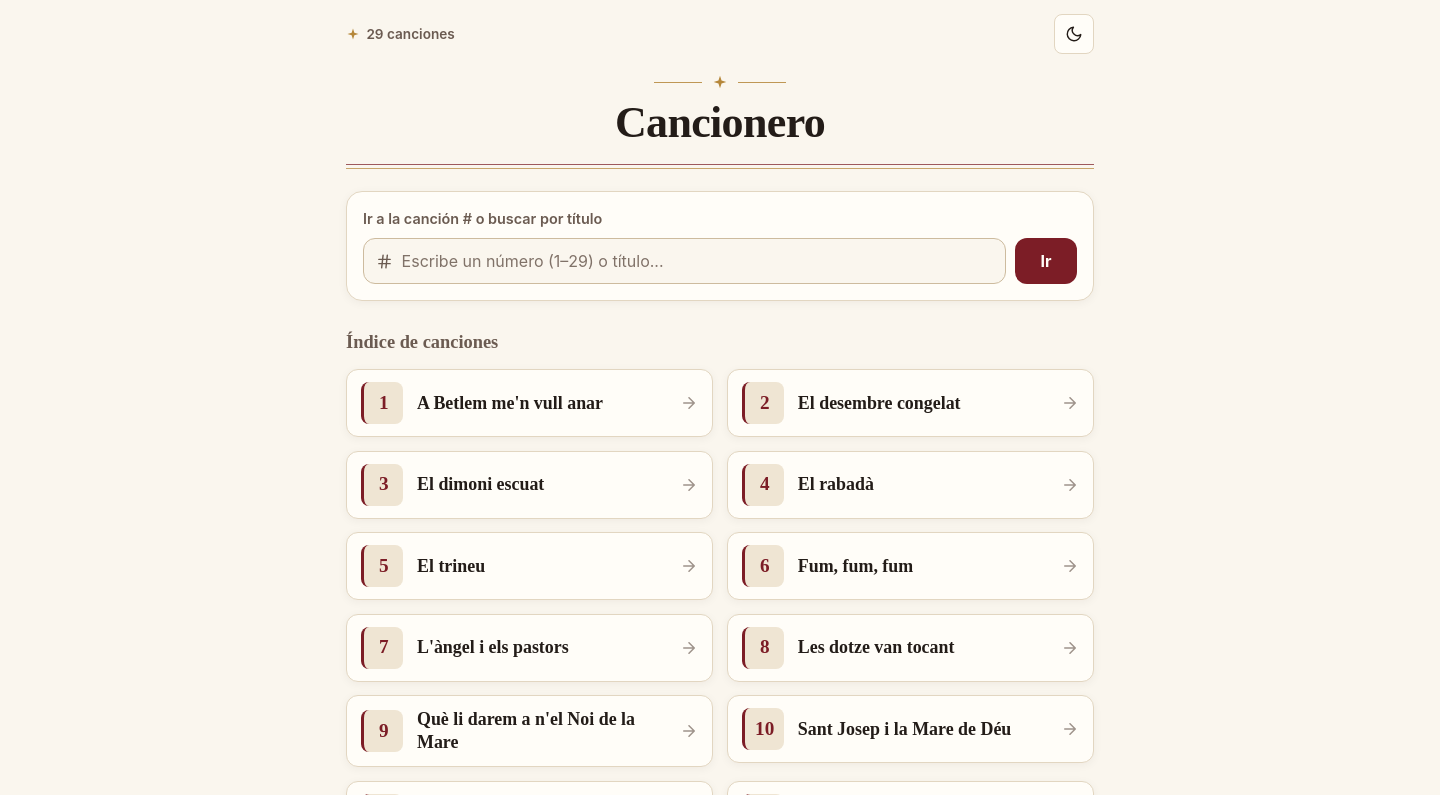
Scenario: Cancionero App › renders the home index with all 29 songs without subtitle and jumps directly by number
The image size is (1440, 795).
Expected: the heading "Cancionero" is shown, [615,98,825,147]
Step 1. Type "17" into the field labelled "Ir a la canción # o buscar por título" → (685, 261), box [363,238,1006,284]
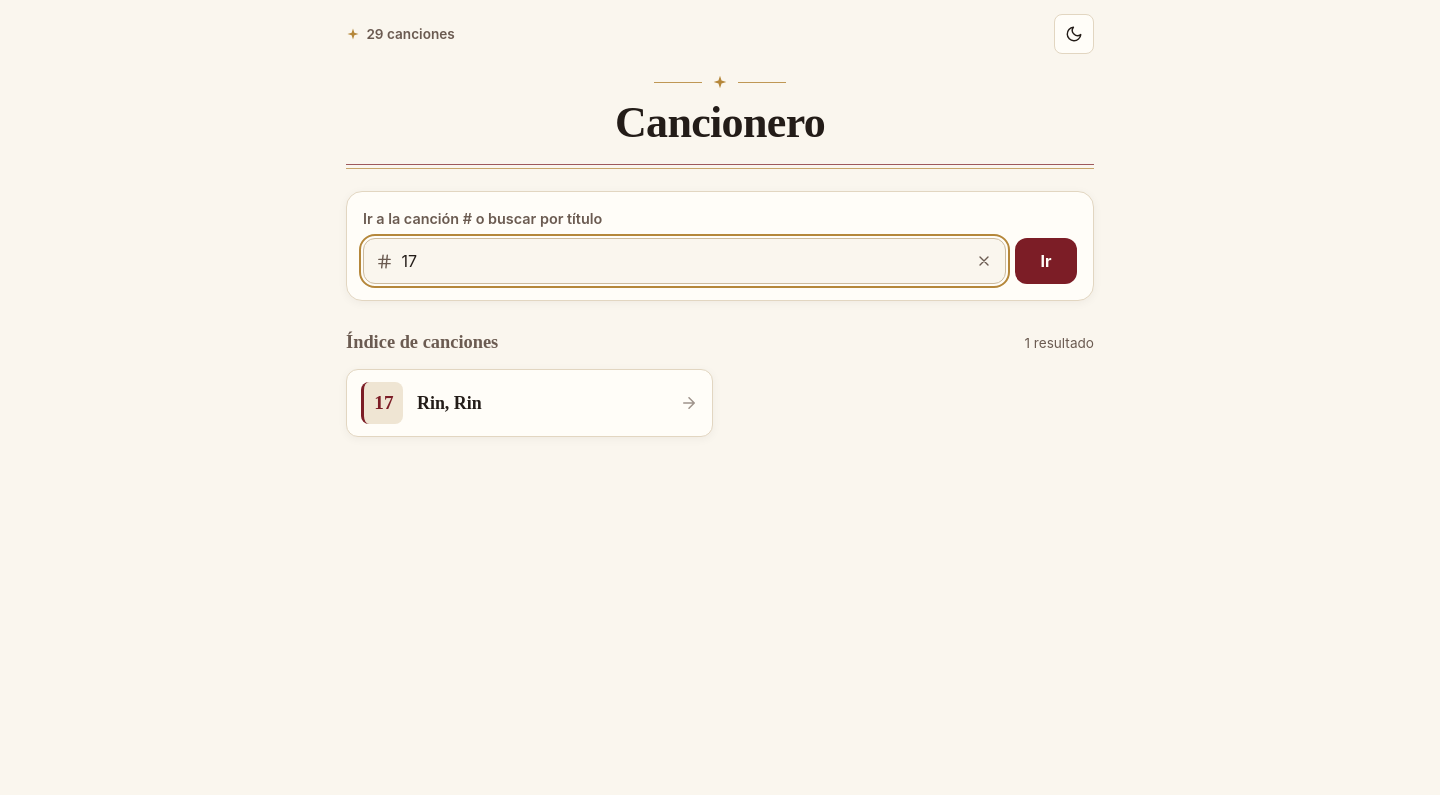
Step 2. Click the button "Ir" → (1046, 261), box [1015,238,1077,284]
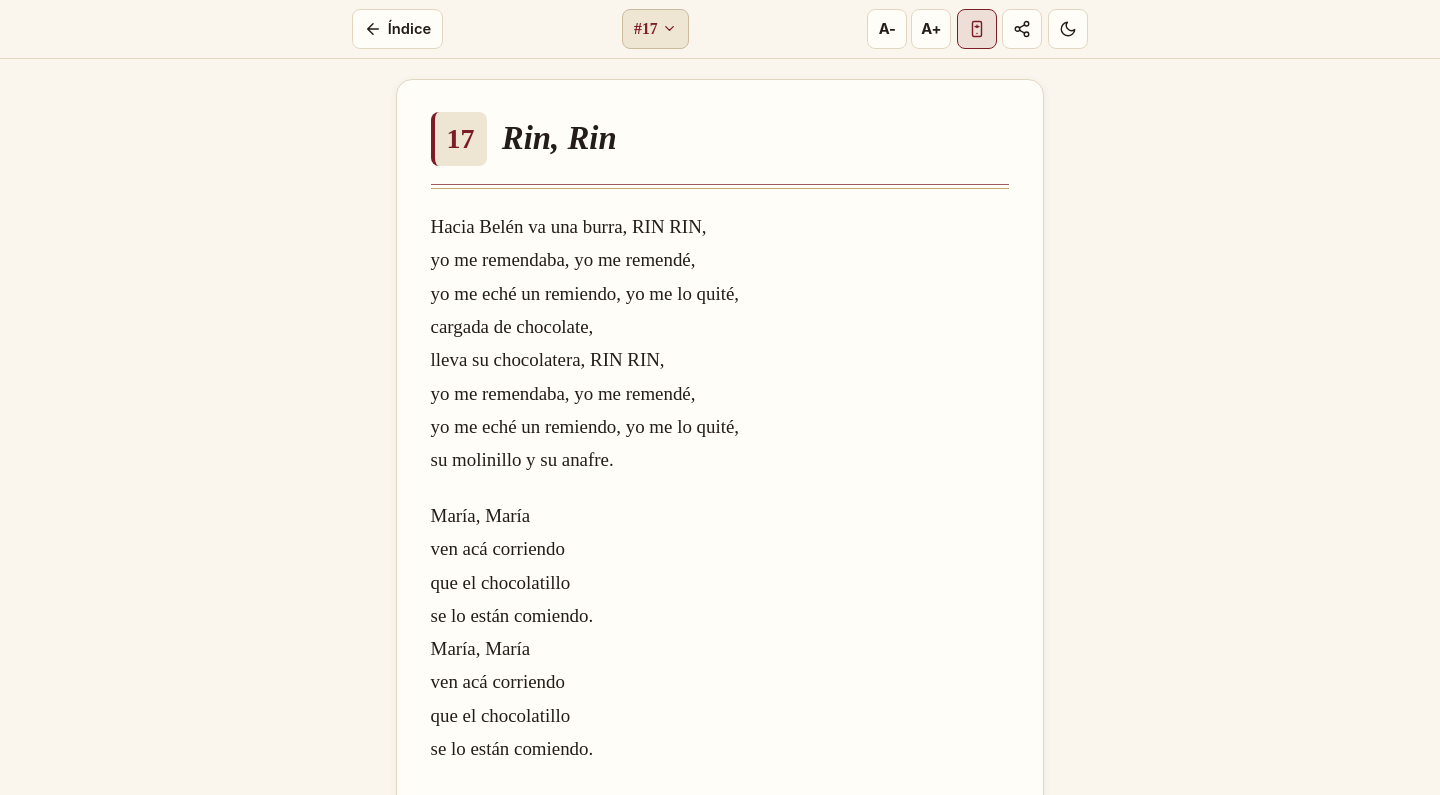
Expected: the heading "Rin, Rin" is shown, [502,119,617,158]
Now the text "Hacia Belén va una burra, RIN RIN," is shown, box [431,216,706,237]
